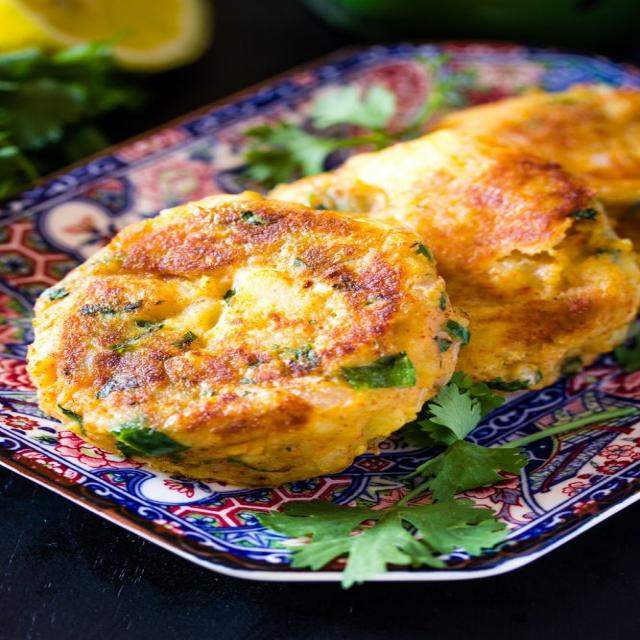Aloo Tikki: (34, 197, 457, 488), (282, 134, 634, 394), (452, 82, 640, 231)
